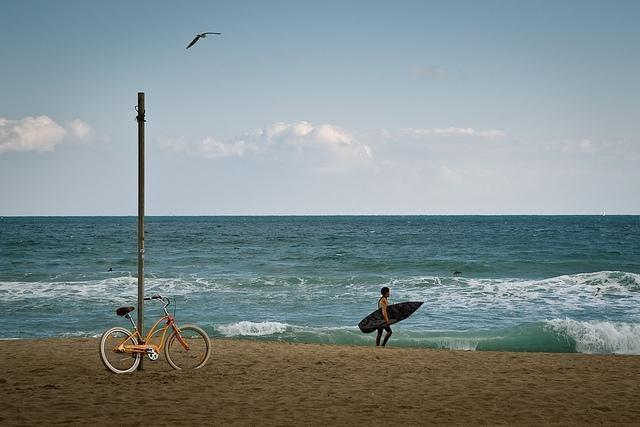bicycle: (100, 296, 214, 374)
